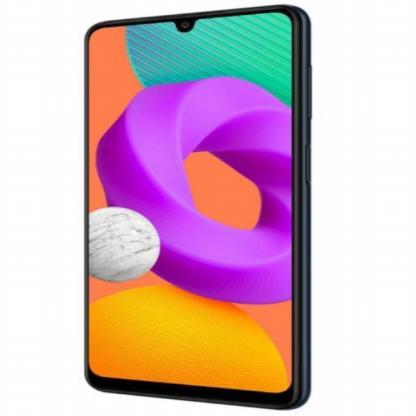SMARTPHONE: (73, 1, 316, 414)
